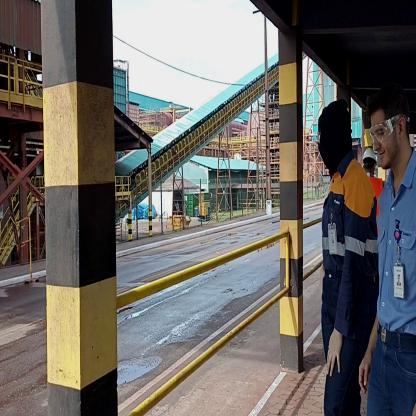Balaclava: (315, 95, 352, 170)
Capacete: (361, 145, 373, 162)
Operacional: (321, 174, 379, 278)
